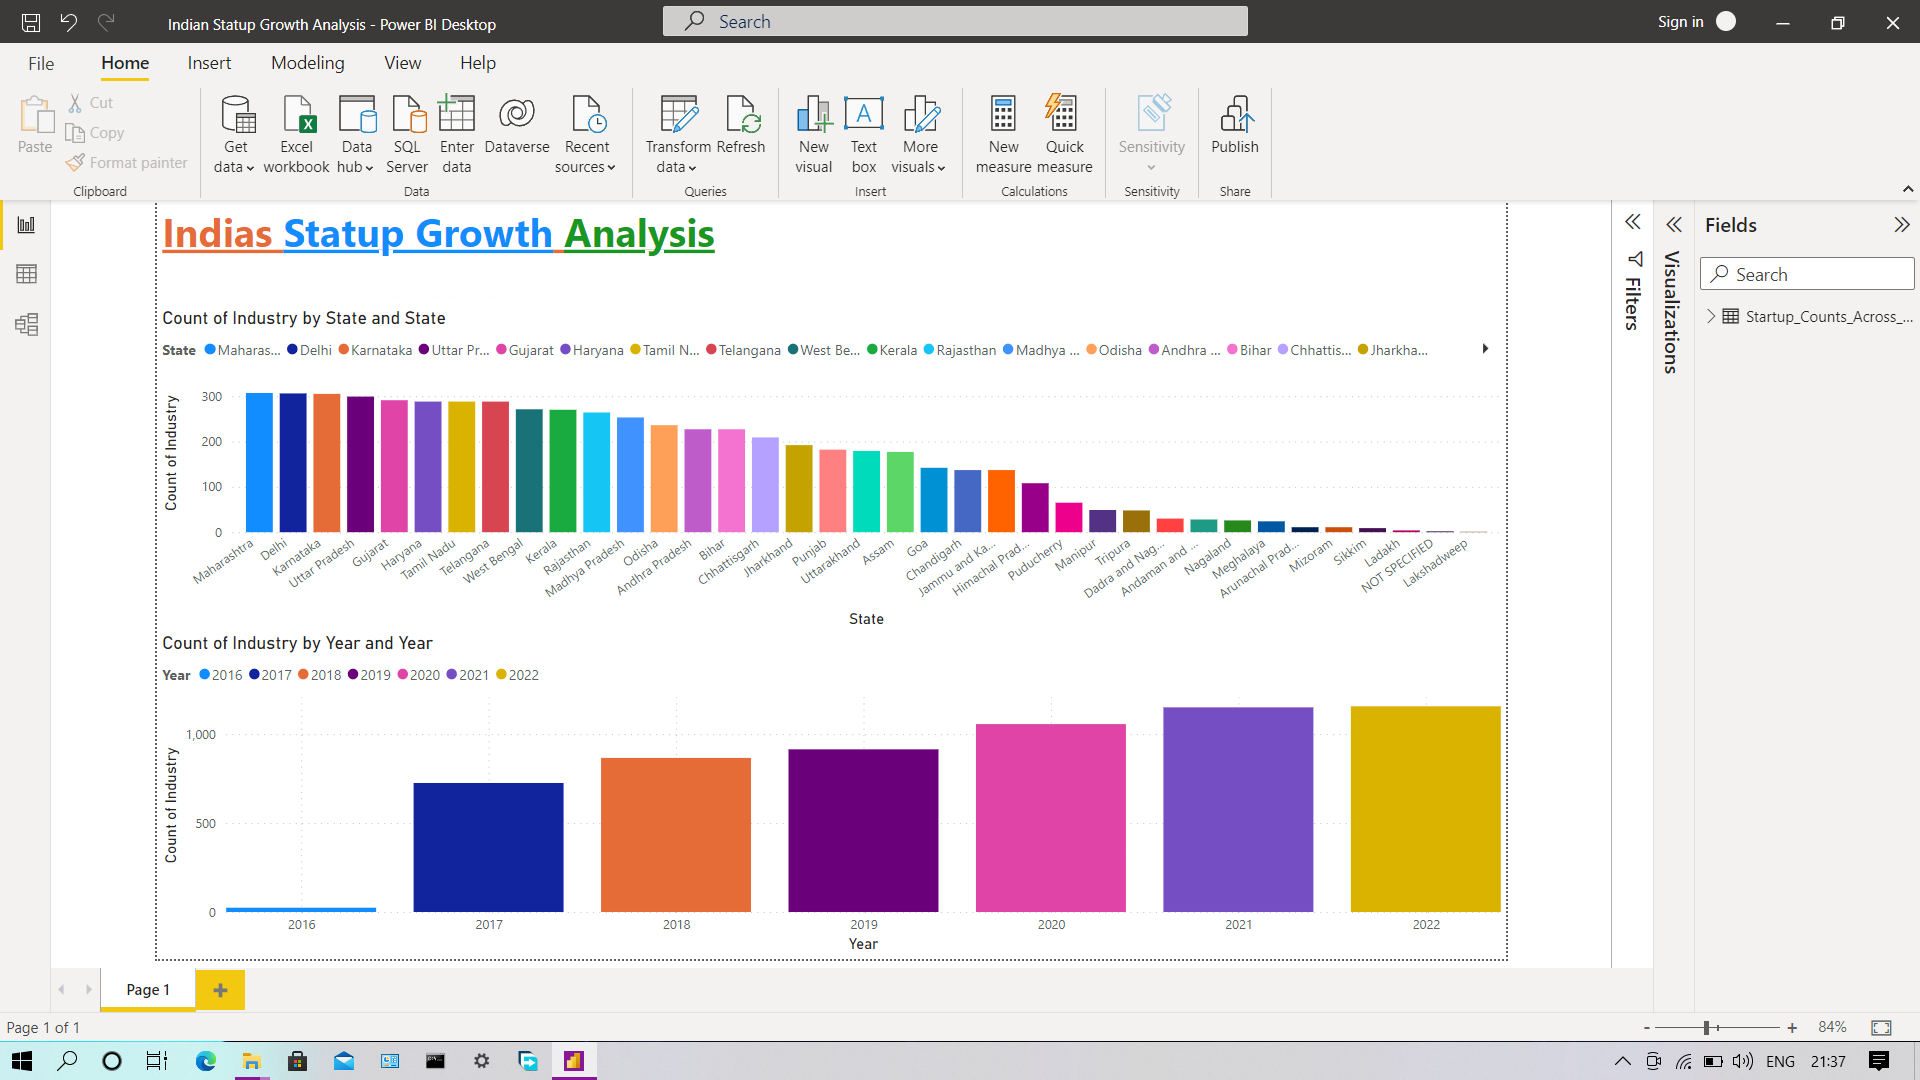

Layout of this report page (visuals, bound fields, positions):
{"tool":"powerbi","page":{"name":"Page 1","canvas":[1280,720],"ordinal":0},"visuals":[{"type":"columnChart","fields":{"Category":["Startup_Counts_Across_India.State"],"Y":["CountNonNull(Startup_Counts_Across_India.Industry)"],"Series":["Startup_Counts_Across_India.State"]},"box":[0,101.6,1280,309],"z":0},{"type":"columnChart","fields":{"Y":["CountNonNull(Startup_Counts_Across_India.Industry)"],"Category":["Startup_Counts_Across_India.Year"],"Series":["Startup_Counts_Across_India.Year"]},"box":[0,410.6,1280,309],"z":1},{"type":"columnChart","box":[0,0,546.6,92],"z":2},{"type":"textbox","box":[0,0,568.6,92],"z":3}]}

Visuals, with their boxes on the page's 1280x720 design canvas (x1, y1, x2, y2). These are canvas units, not pixel positions in the 1920x1080 screenshot, which may show the page scaled, cropped or inside an application window:
columnChart - Startup_Counts_Across_India.State x CountNonNull(Startup_Counts_Across_India.Industry): bbox=(0, 102, 1280, 411)
columnChart - CountNonNull(Startup_Counts_Across_India.Industry) x Startup_Counts_Across_India.Year: bbox=(0, 411, 1280, 720)
columnChart: bbox=(0, 0, 547, 92)
textbox: bbox=(0, 0, 569, 92)
